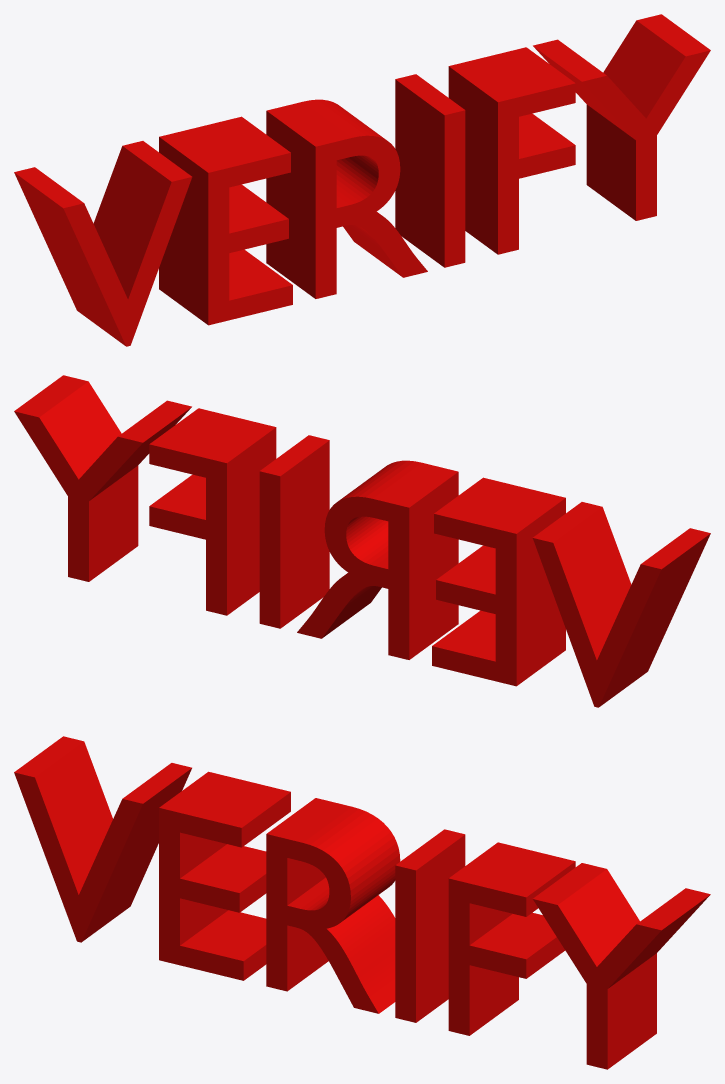
Rendered from VerifyTextModel.fbx.
3 renders of one model, top to bottom at view 1: azimuth 30°, elevation 25°; view 2: azimuth 150°, elevation 25°; view 3: azimuth 330°, elevation 25°, orthographic.
Parts seen in each view (by area): view 1: Text; view 2: Text; view 3: Text.
Part boxes in pixels (<box>): Text: <box>14,14,710,346</box>; Text: <box>14,375,710,707</box>; Text: <box>14,736,710,1069</box>.
Bounding box in the file's own units: 303 × 68.8 × 40.
